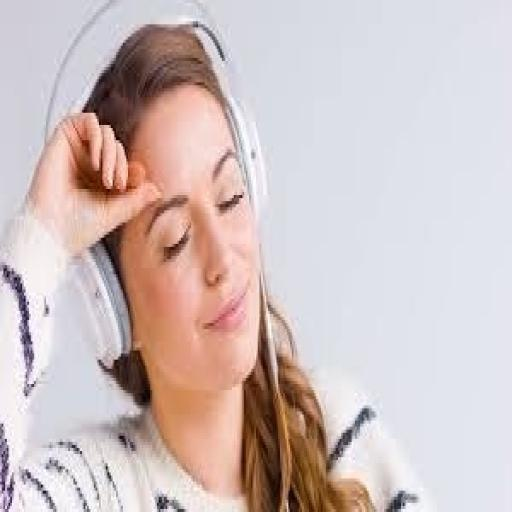listening_to_music: (0, 15, 427, 509)
